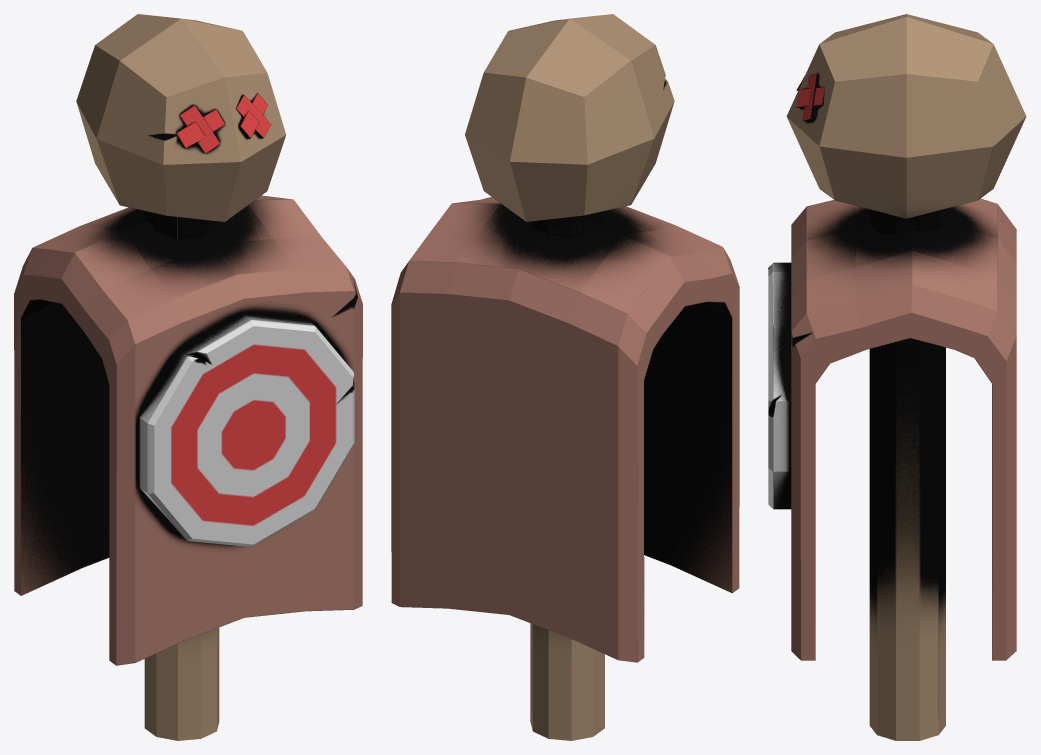
Rendered from TrainingDummy.fbx.
The picture shows the model from 3 angles, left to right: view 1: azimuth 30°, elevation 25°; view 2: azimuth 150°, elevation 25°; view 3: azimuth 270°, elevation 25°; orthographic projection.
Visible parts, largest first — view 1: TrainingDummy; view 2: TrainingDummy; view 3: TrainingDummy.
Part boxes in pixels (box(x1,y1,x2,y2)): TrainingDummy: box(14, 14, 362, 740); TrainingDummy: box(391, 14, 739, 740); TrainingDummy: box(768, 14, 1026, 740).
Bounding box in the file's own units: 744 × 2044 × 675.
4 materials, 4 textured.
